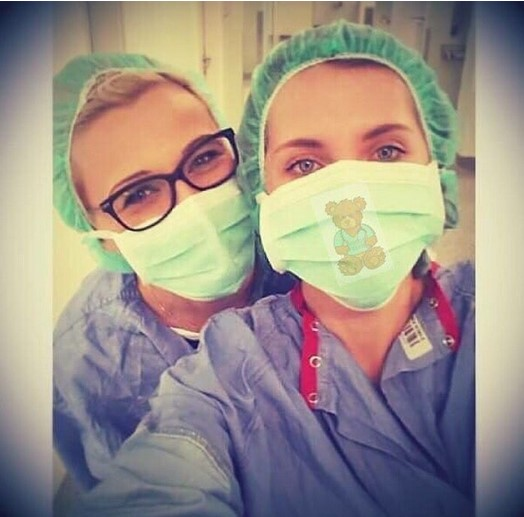face_with_mask: (239, 20, 461, 313), (45, 50, 255, 304)
